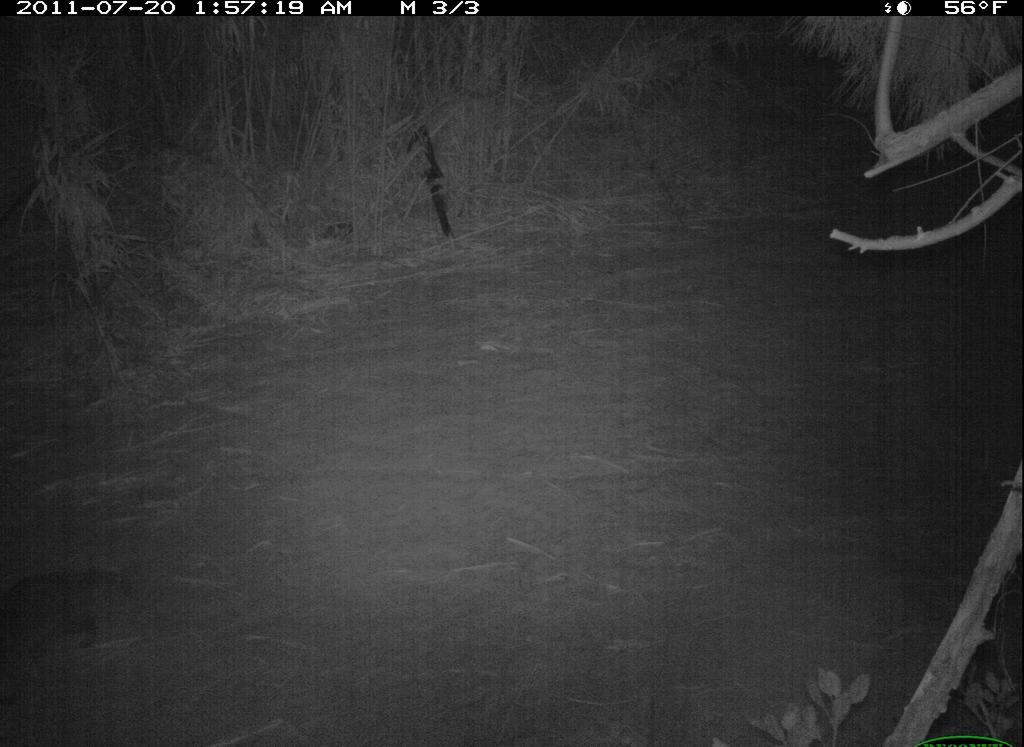raccoon: (16, 560, 144, 667)
